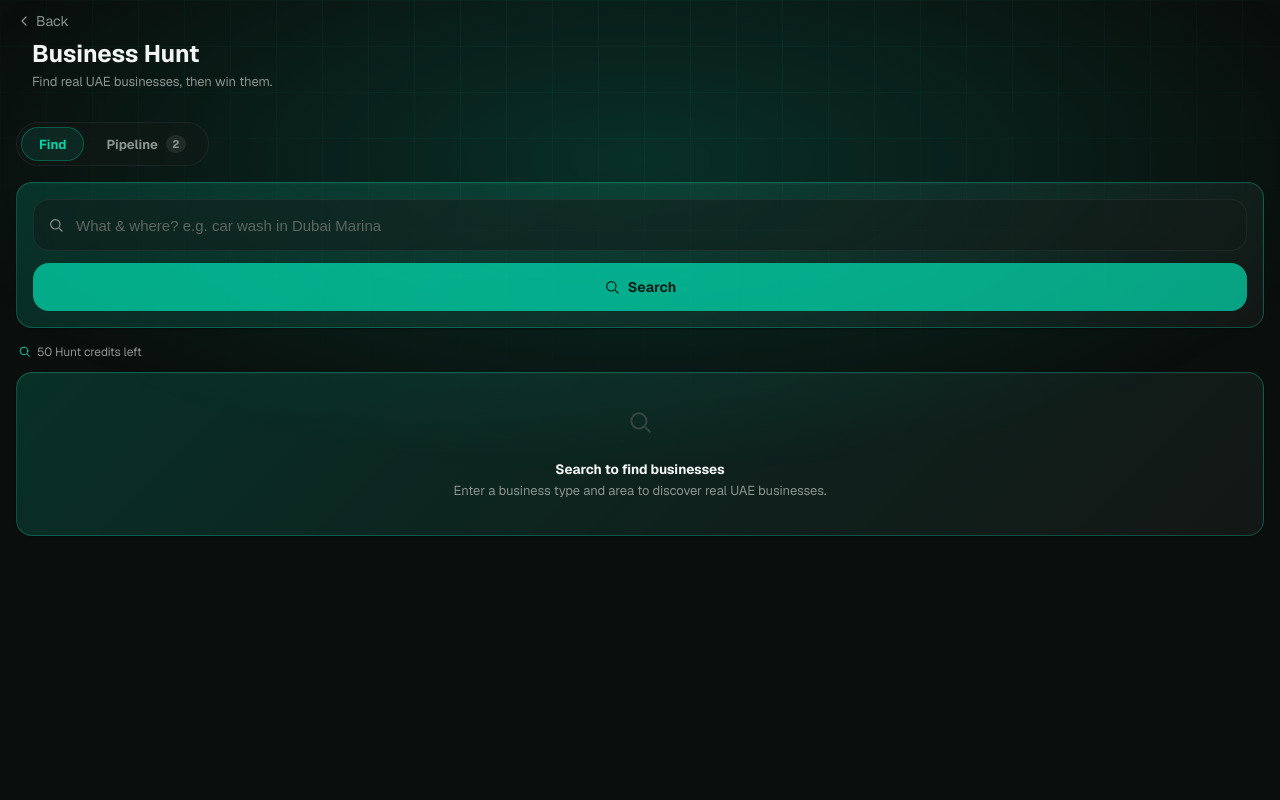
Leads pipeline assignment › shows the owner on each lead and Unassigned when there is none
Click the tab "Pipeline 2" at (146, 144), box [88,127,204,161]
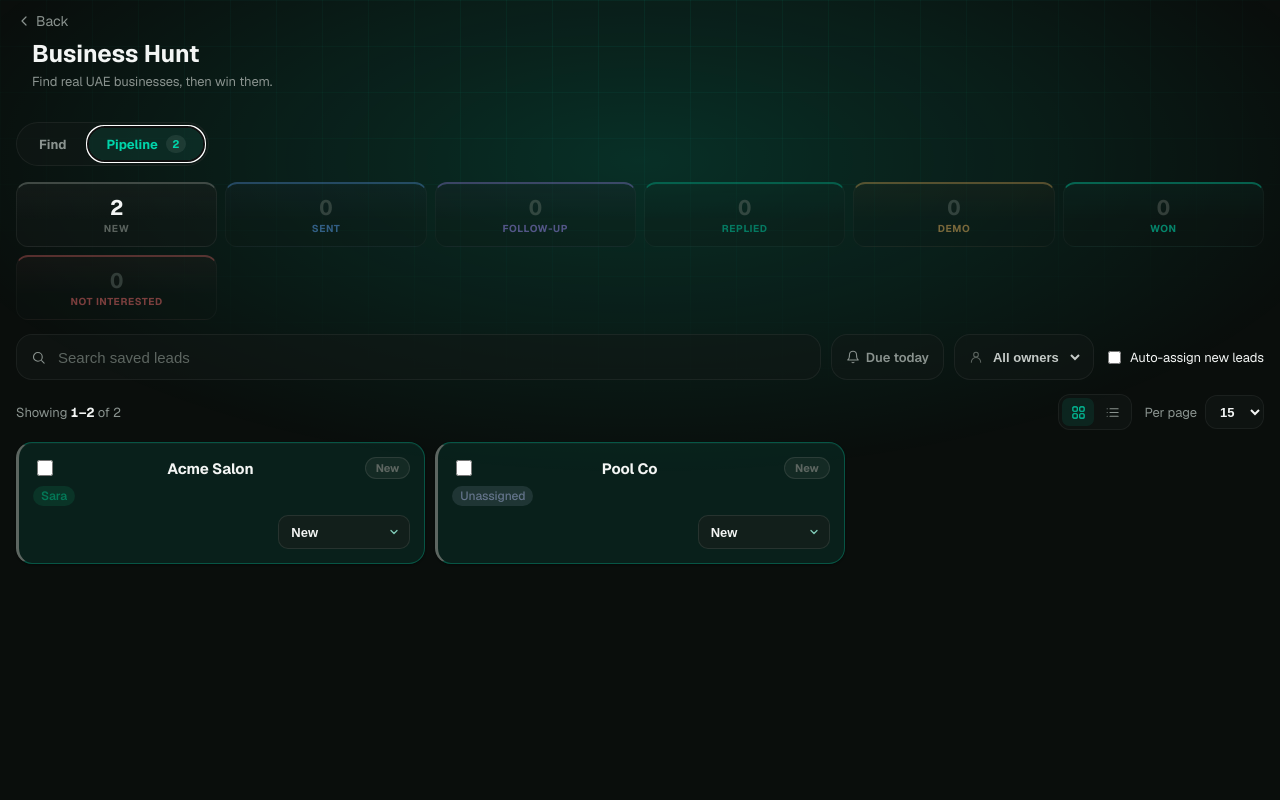
Now the text "Sara" is shown, box [33,486,75,506]
Now the text "Unassigned" is shown, box [452,486,533,506]
